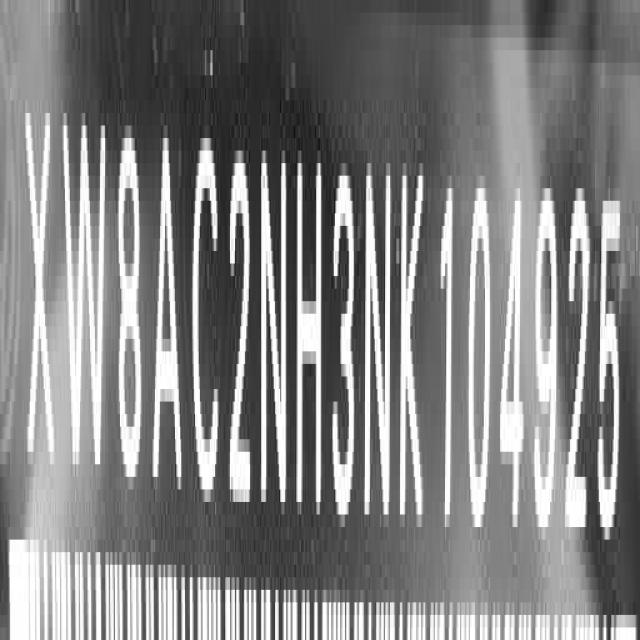0: (468, 190, 491, 534)
1: (437, 172, 455, 553)
2: (566, 177, 590, 581), (226, 158, 253, 516)
3: (331, 167, 356, 544)
4: (498, 200, 526, 539)
5: (598, 163, 623, 562)
8: (117, 111, 144, 498)
9: (531, 182, 558, 562)
A: (148, 112, 184, 488)
C: (193, 130, 221, 516)
H: (294, 153, 327, 530)
K: (398, 153, 427, 562)
N: (362, 154, 392, 526), (259, 144, 288, 507)
W: (62, 98, 110, 511)
X: (24, 93, 55, 488)
